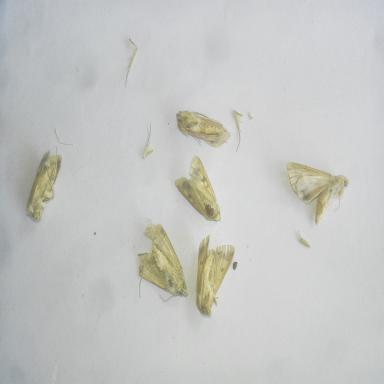abw: (284, 158, 352, 228), (134, 220, 190, 302), (193, 233, 237, 321), (173, 154, 223, 226), (24, 142, 65, 225), (174, 107, 234, 150)
